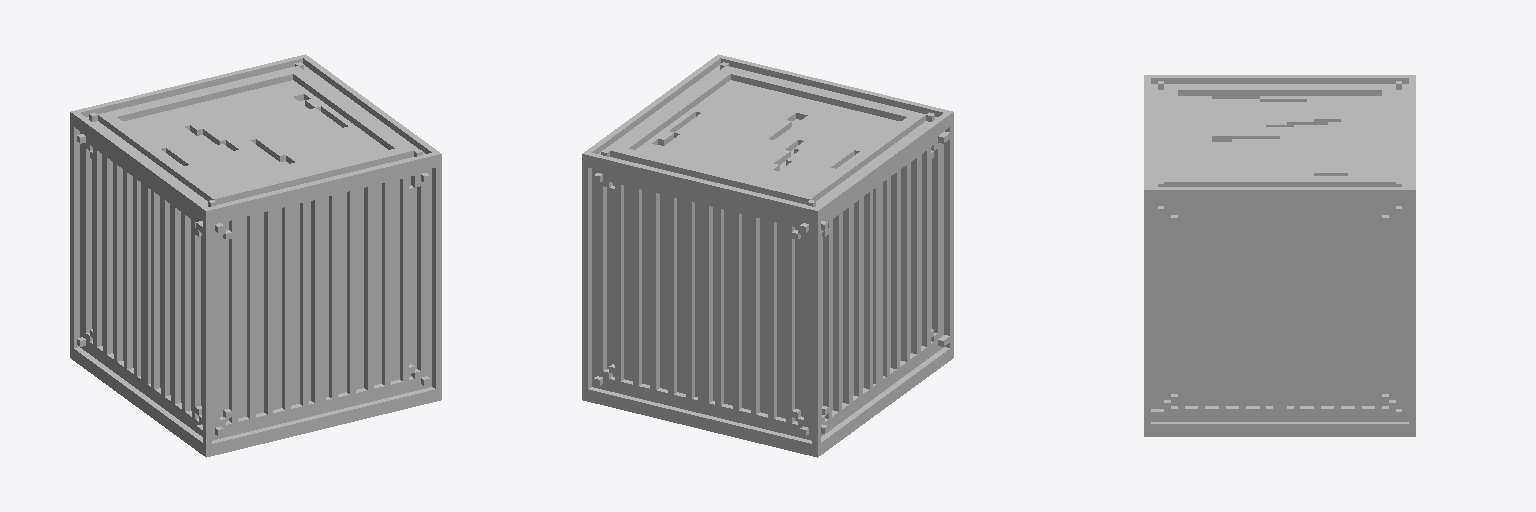
The model's file is Kasse 1.obj.
3 renders of one model, left to right at view 1: azimuth 30°, elevation 25°; view 2: azimuth 150°, elevation 25°; view 3: azimuth 270°, elevation 25°, orthographic.
Visible parts, largest first — view 1: object 1; view 2: object 1; view 3: object 1.
Part boxes in pixels (x1,y1,x2,y2): object 1: (70, 54, 441, 457); object 1: (582, 54, 953, 457); object 1: (1144, 75, 1415, 436).
Bounding box in the file's own units: 4 × 4 × 4.